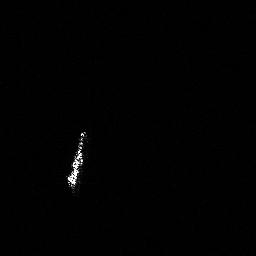ship: (65, 127, 89, 197)
